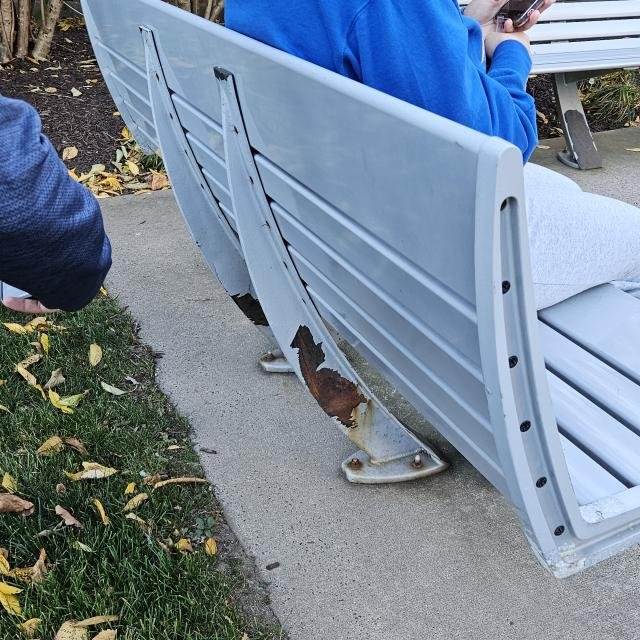Crevice Corrosion: (344, 456, 370, 474), (412, 454, 429, 471)
Filiform Corrosion: (292, 321, 371, 432), (236, 293, 270, 327)
